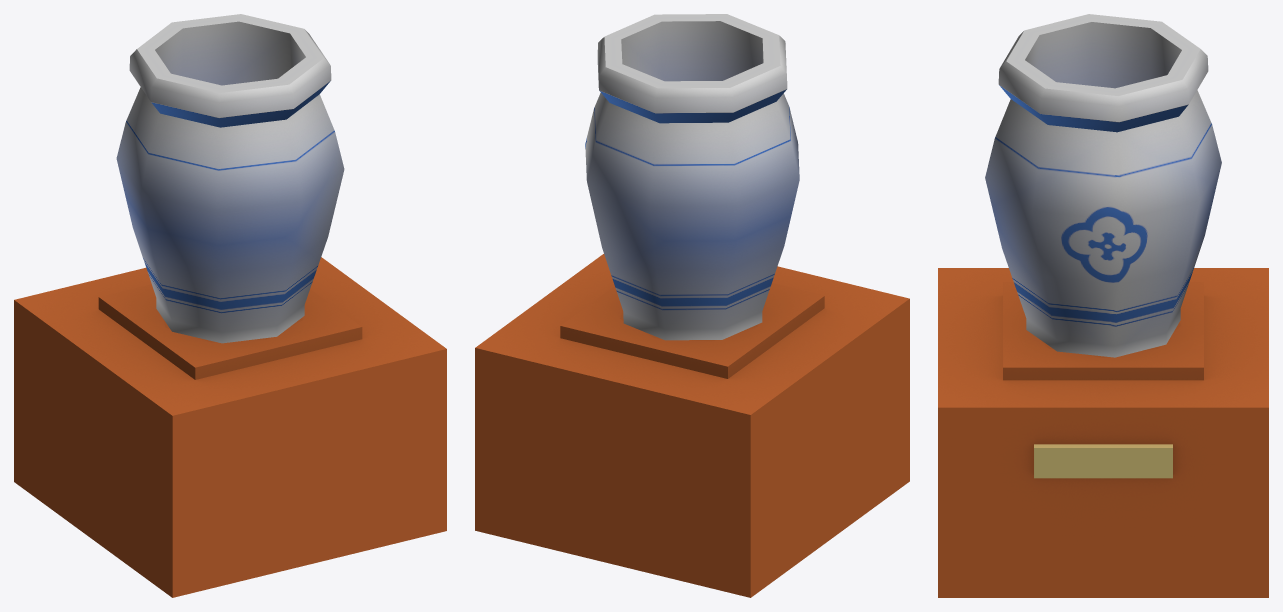
File: Flowervase.fbx
The picture shows the model from 3 angles, left to right: view 1: azimuth 30°, elevation 25°; view 2: azimuth 150°, elevation 25°; view 3: azimuth 270°, elevation 25°; orthographic projection. The views are drawn at different scales.
Parts seen in each view (by area): view 1: ImposterEscaped_Flowervase_geo1; view 2: ImposterEscaped_Flowervase_geo1; view 3: ImposterEscaped_Flowervase_geo1.
Part boxes in pixels (box(x1,y1,x2,y2)): ImposterEscaped_Flowervase_geo1: box(14, 14, 446, 597); ImposterEscaped_Flowervase_geo1: box(475, 14, 909, 597); ImposterEscaped_Flowervase_geo1: box(938, 14, 1268, 597).
Bounding box in the file's own units: 5.6 × 8.6 × 5.46.
1 material, 1 textured.
